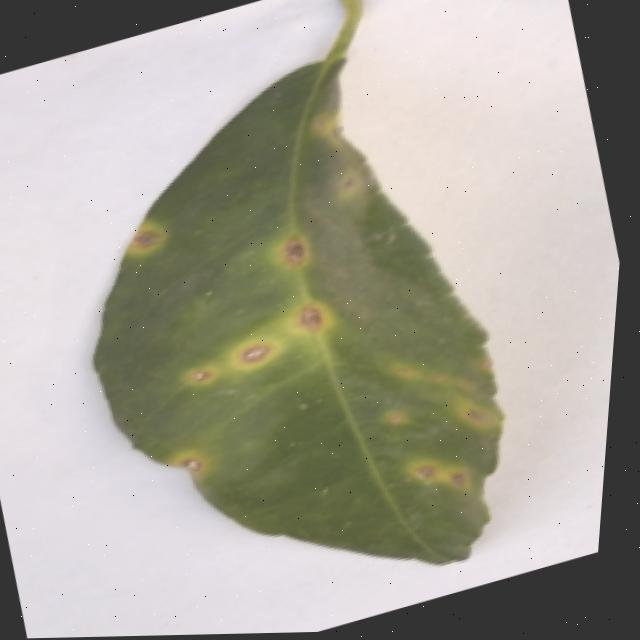canker: (93, 0, 499, 562), (157, 285, 363, 418), (388, 428, 500, 532), (295, 97, 373, 183), (248, 220, 326, 286), (438, 376, 508, 447), (158, 440, 223, 495), (118, 213, 175, 271)
